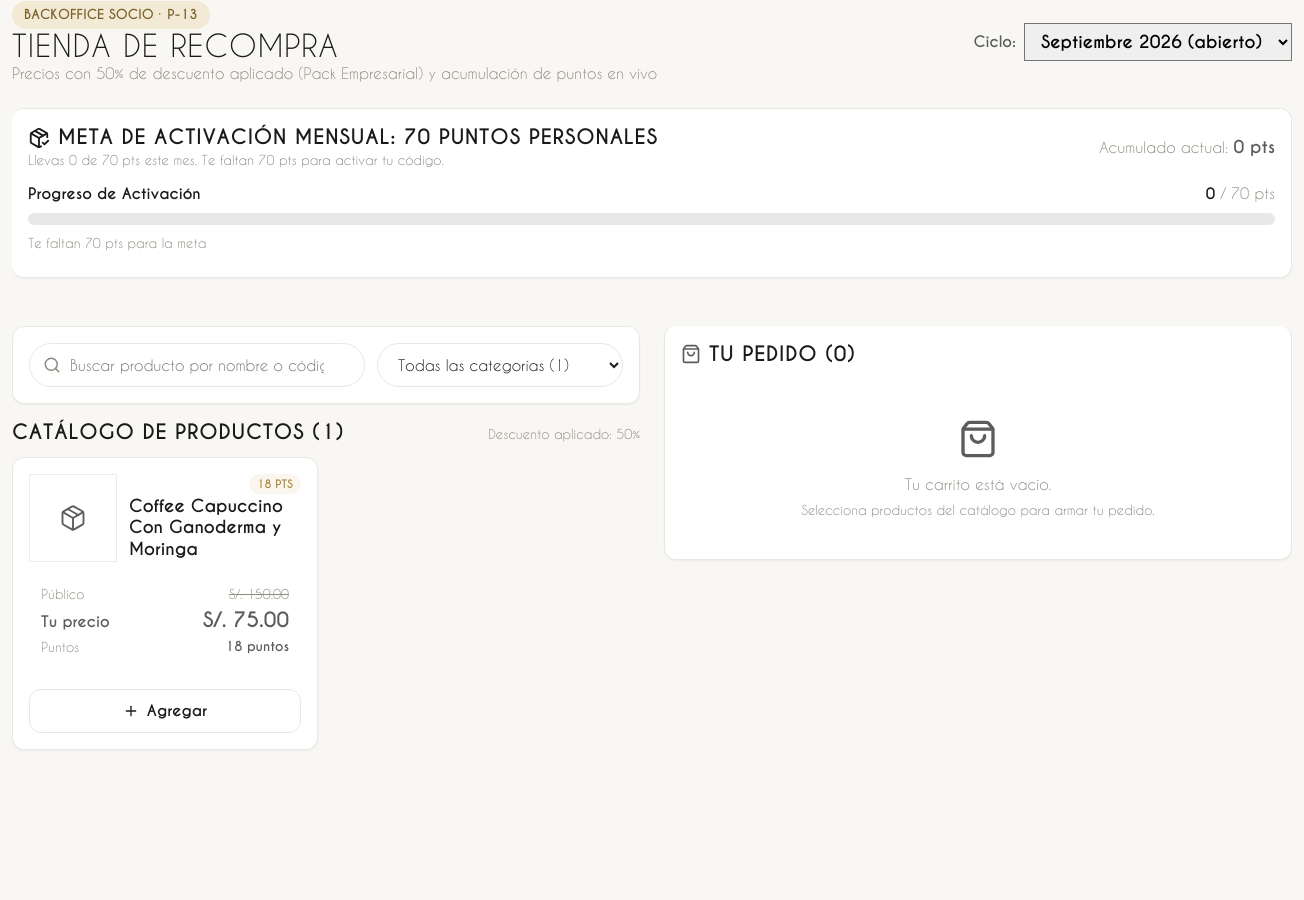
TAREA-40 · Las Barras Muertas y la Meta de Activación (7 Pruebas de Certificación) › 2 · Con 18 pts de carrito muestra "18 / 70" y variante dorada
The width and height of the screenshot is (1304, 900).
Expected: the heading "Coffee Capuccino Con Ganoderma y Moringa" is shown, [129,496,301,560]
Click the button "Agregar" at (165, 711), box [29,689,301,733]
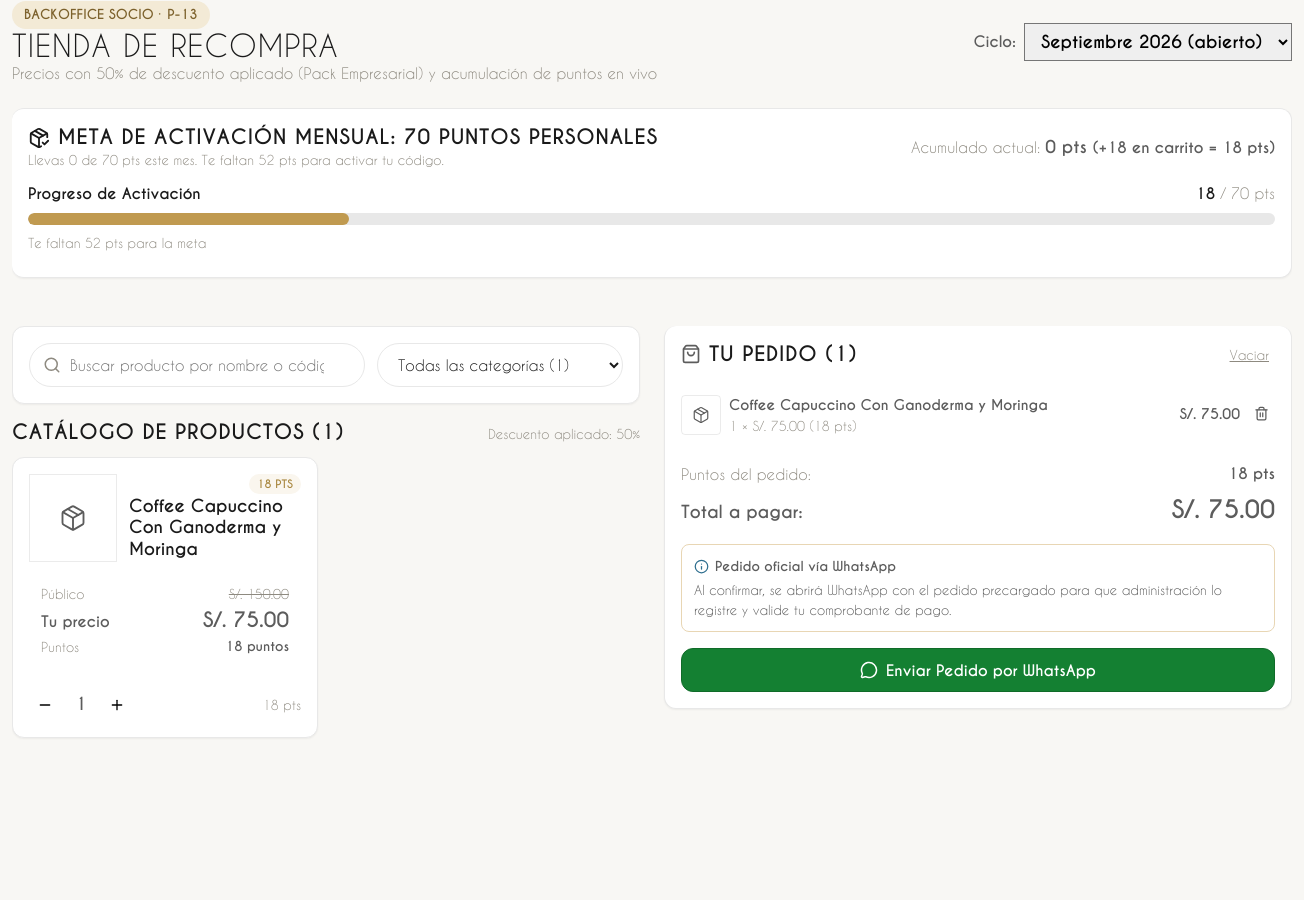
Expected: the text "Te faltan 52 pts para la meta" is shown, [28,233,206,252]
